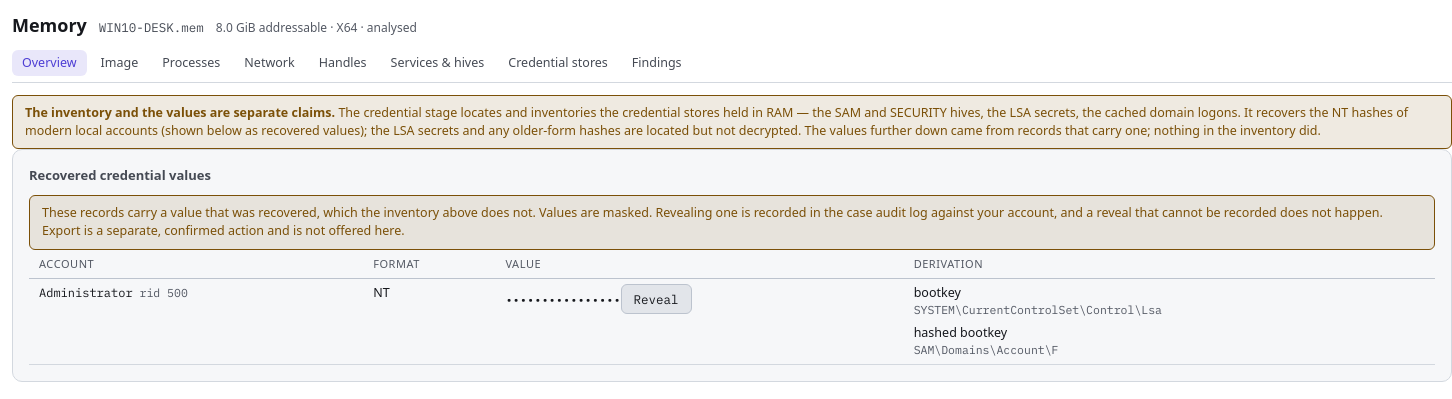
MemoryCredentialsPage — recovered values › reveals a value only after the server has recorded the reveal
Click the button "Reveal" at (656, 298), box [621,284,692,314]
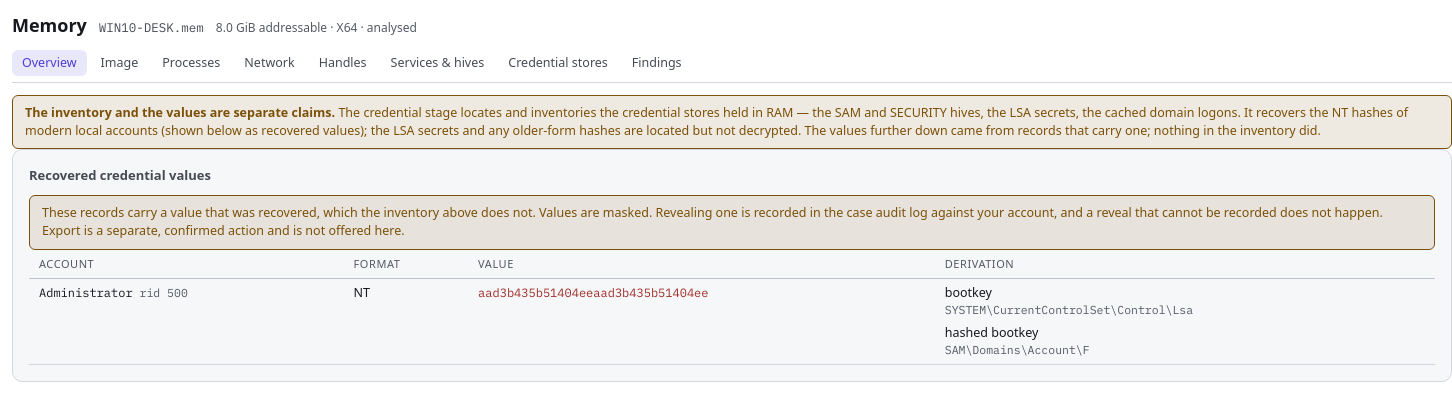
Check: the text "aad3b435b51404eeaad3b435b51404ee" is shown, box [478,284,708,300]
